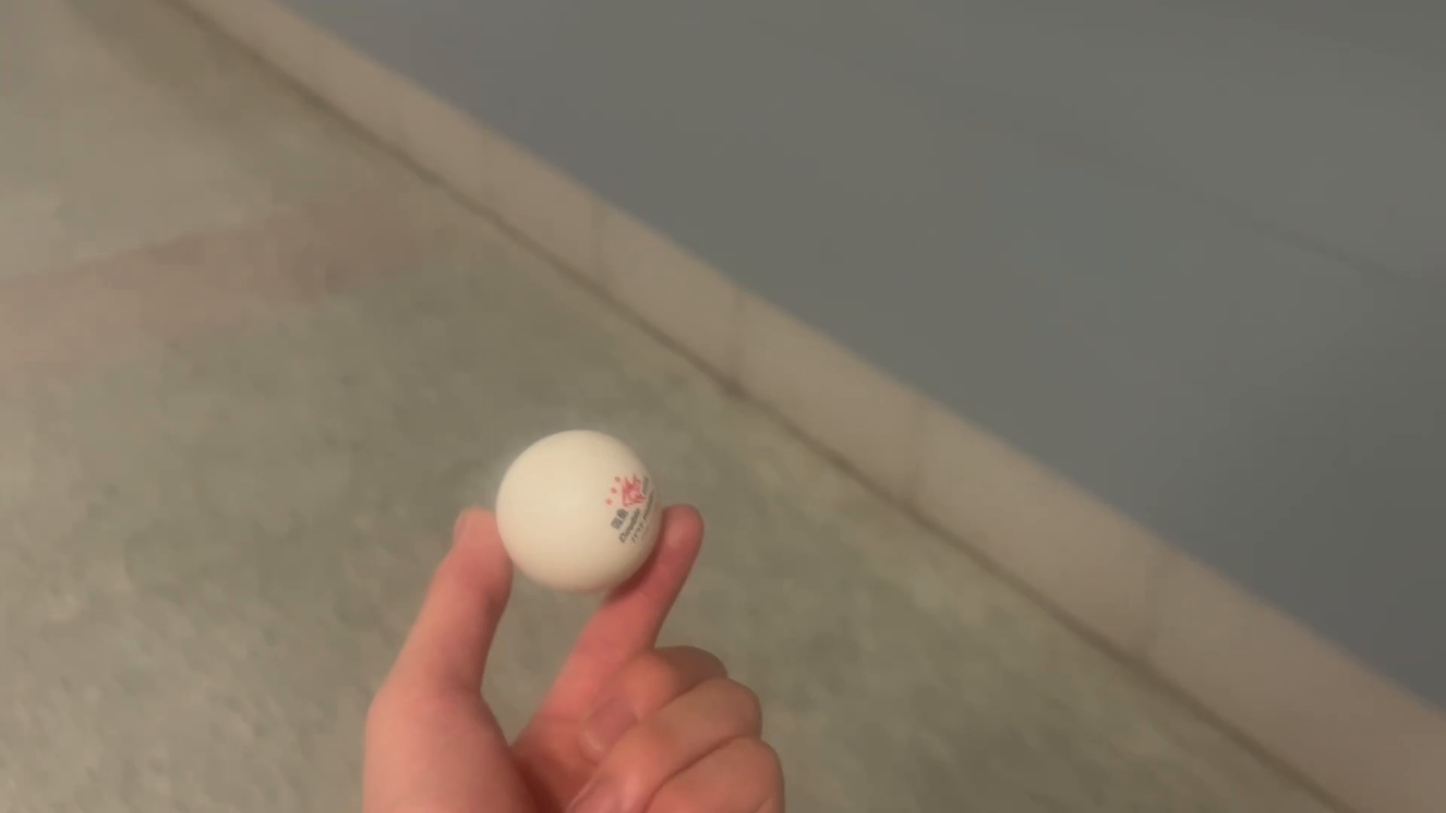Ball: (485, 436, 675, 587)
